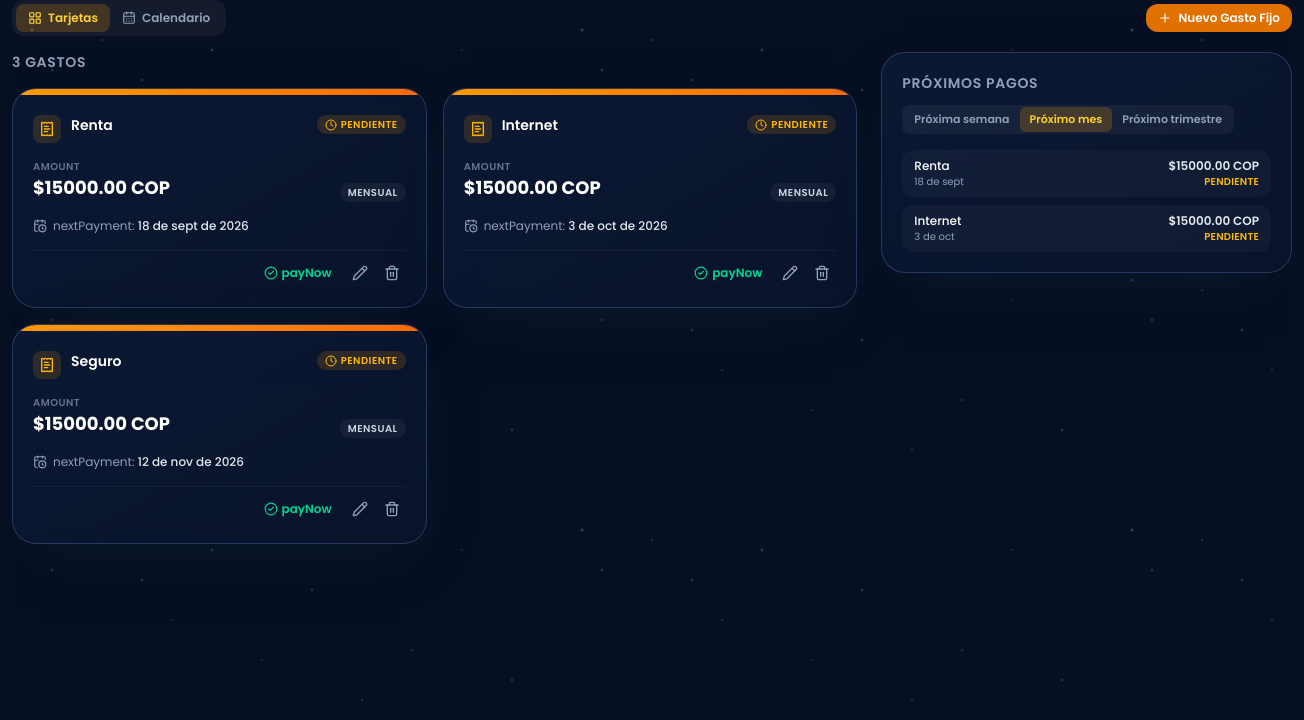
FixedExpensesView › filters upcoming payments by the selected horizon
The width and height of the screenshot is (1304, 720).
Expected: the text "Renta" is shown, [914,156,950,174]
Expected: the text "Internet" is shown, [914,212,961,228]
Click the button "Próxima semana". click: click(962, 119)
box: [904,107,1020,132]
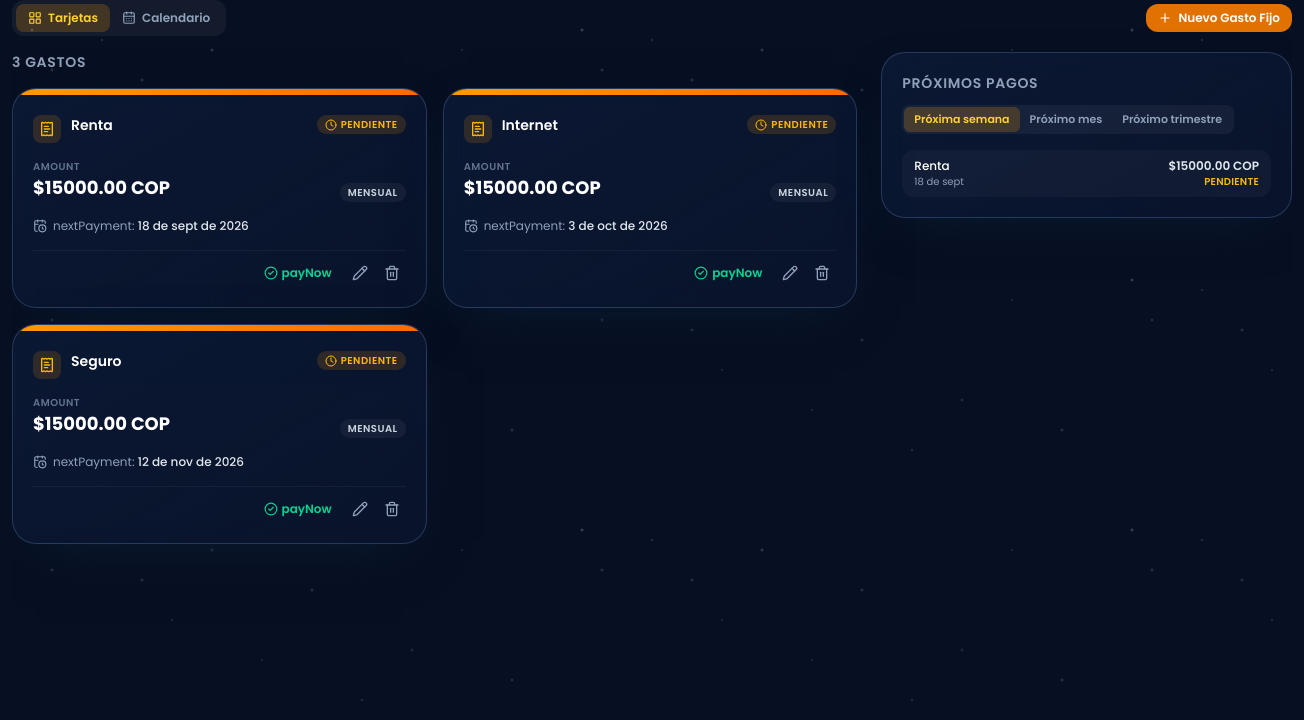
Expected: the text "Renta" is shown, [914,156,950,174]
Click the button "Próximo trimestre". click: click(1172, 119)
box: [1112,107,1232,132]
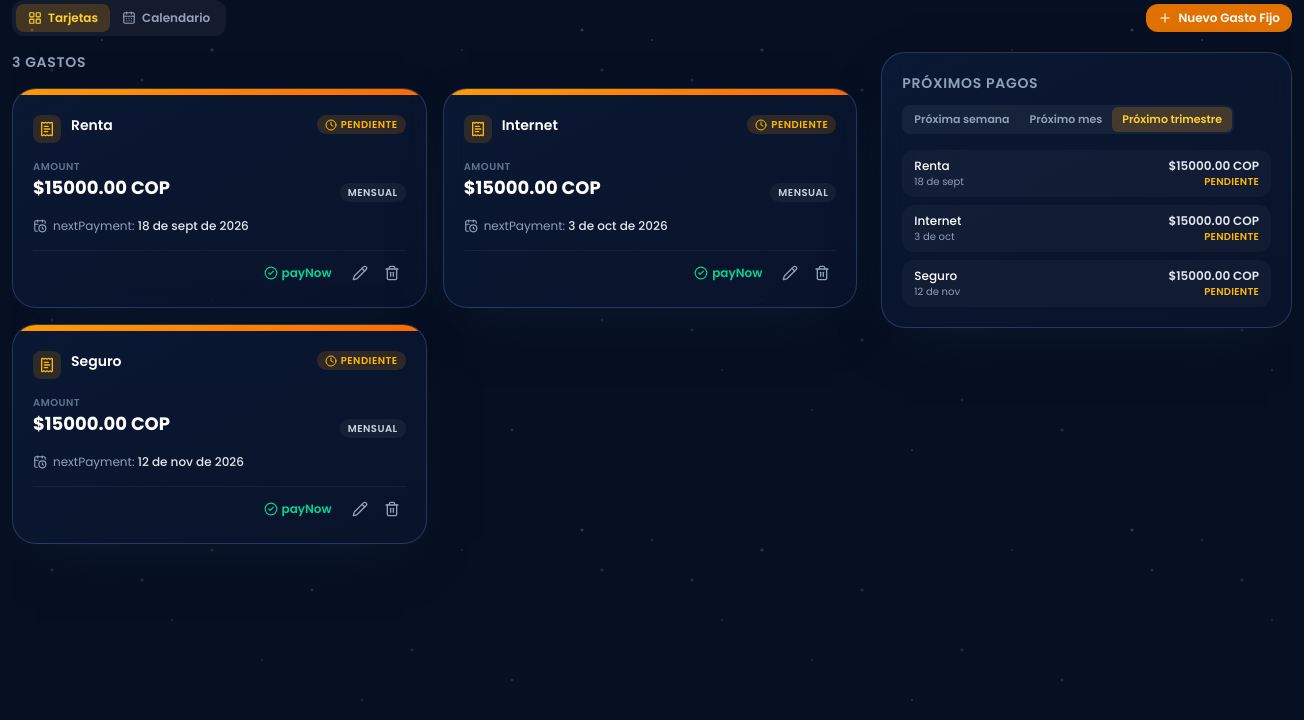
Expected: the text "Renta" is shown, [914,156,950,174]
Now the text "Internet" is shown, box [914,212,961,228]
Now the text "Seguro" is shown, box [914,268,960,284]
